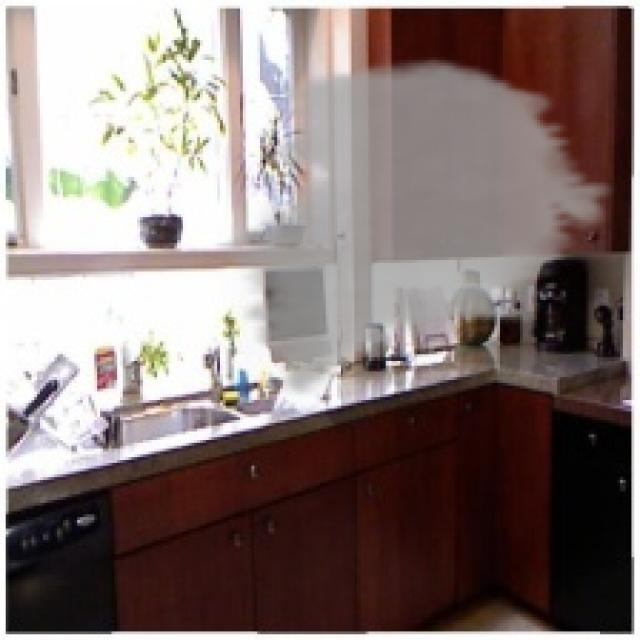Smoke: (215, 54, 620, 397)
